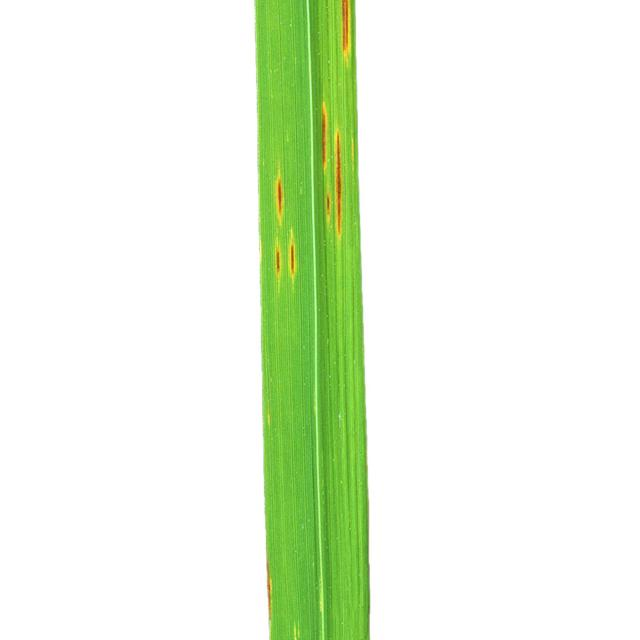Narrow brown: (210, 0, 438, 640)
